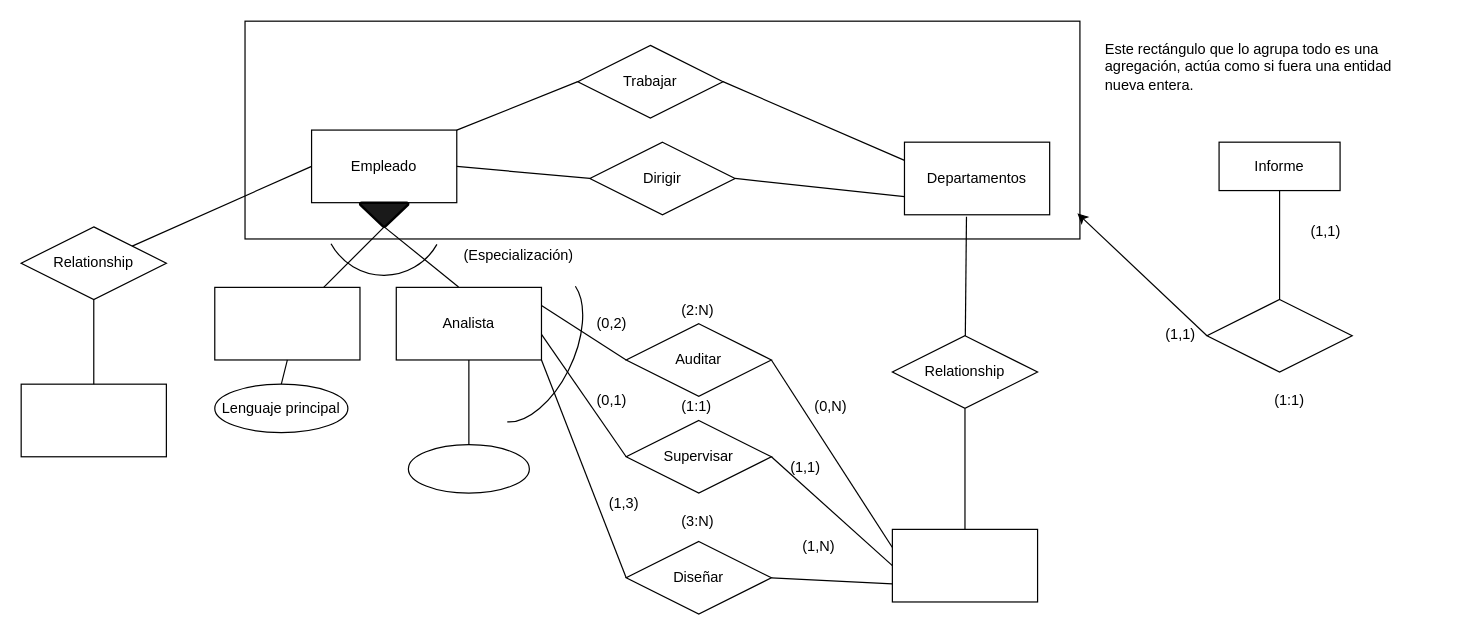
Image size: 1458x635. Some labels were removed from this diagram. The box of each missing label's shape, as (x1, y1, x2, y2) in pixels:
Desarrollador: (214, 286, 360, 360)
Familiares: (20, 383, 166, 457)
Metodología trabajo: (407, 443, 529, 493)
Proyecto: (891, 528, 1038, 602)
Realizar: (1206, 298, 1352, 372)
